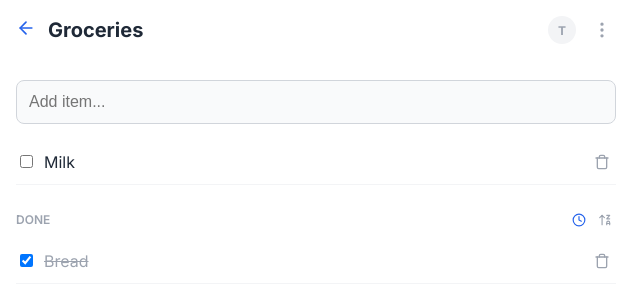
Scenario: ListDetailPage › hides Private list toggle for non-creator participant
The width and height of the screenshot is (636, 301).
Expected: the heading "Groceries" is shown, [48,18,143,42]
What coordinates should you click on to do the following:
click the button named "List settings"
I would click on:
 (602, 30)
Its box is [588,16,616,44].
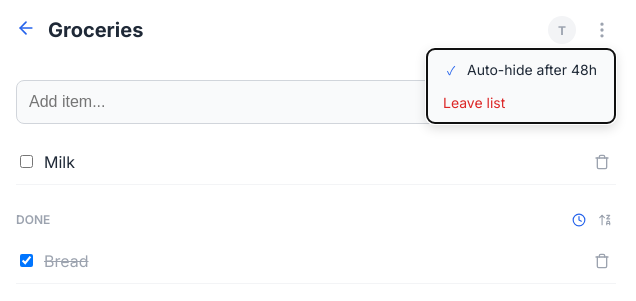
Result: the menu item "Auto-hide after 48h" is shown at [443,61,597,78]
